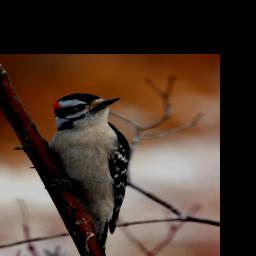Woodpecker: (43, 93, 130, 256)
